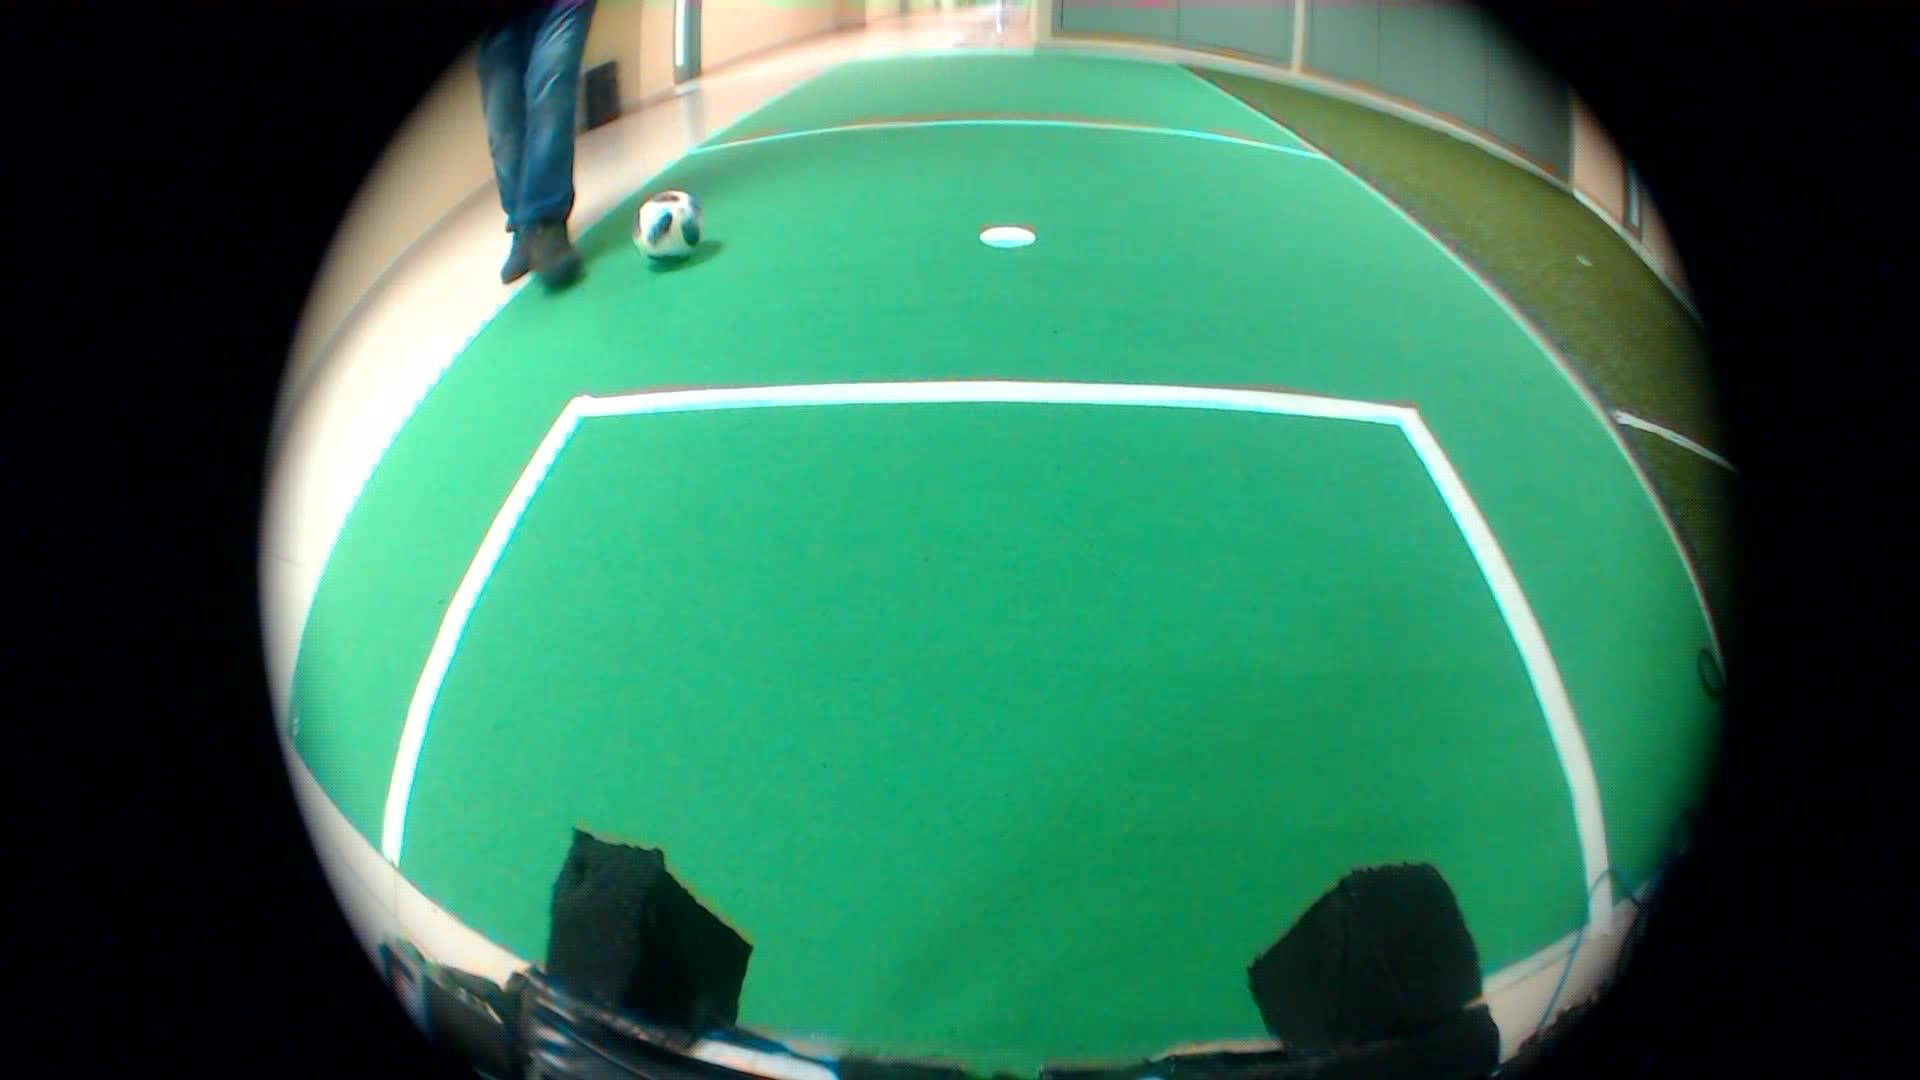ball: (626, 181, 713, 268)
